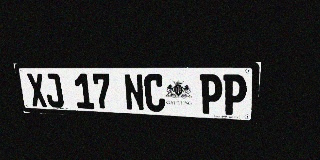1: (73, 73, 95, 109)
7: (91, 74, 113, 110)
C: (144, 74, 166, 112)
J: (43, 73, 65, 108)
N: (123, 74, 145, 111)
P: (222, 74, 248, 115), (200, 74, 223, 114)
X: (26, 73, 48, 107)
